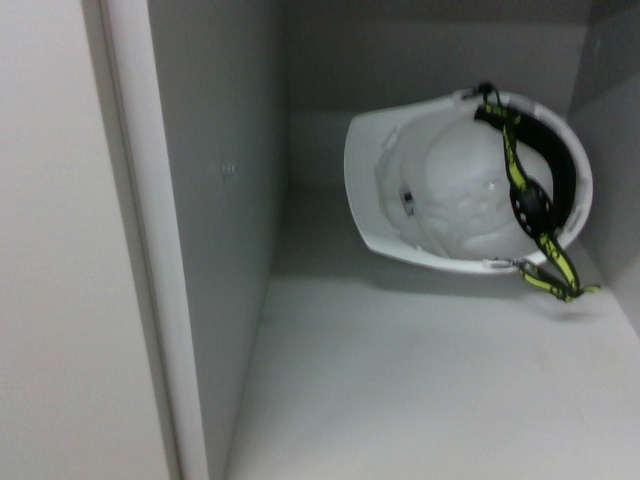helmet: (336, 84, 598, 273)
